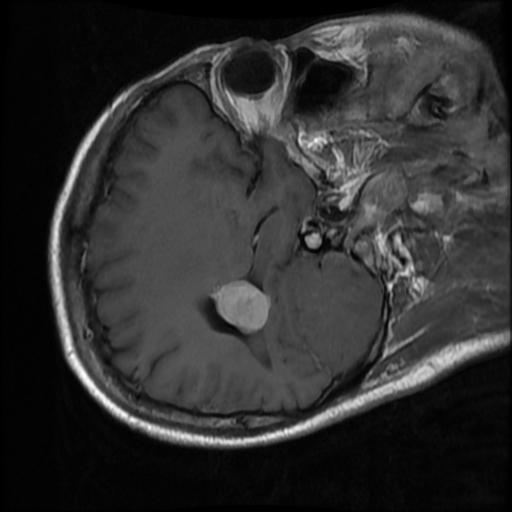meningioma: (215, 281, 268, 331)
